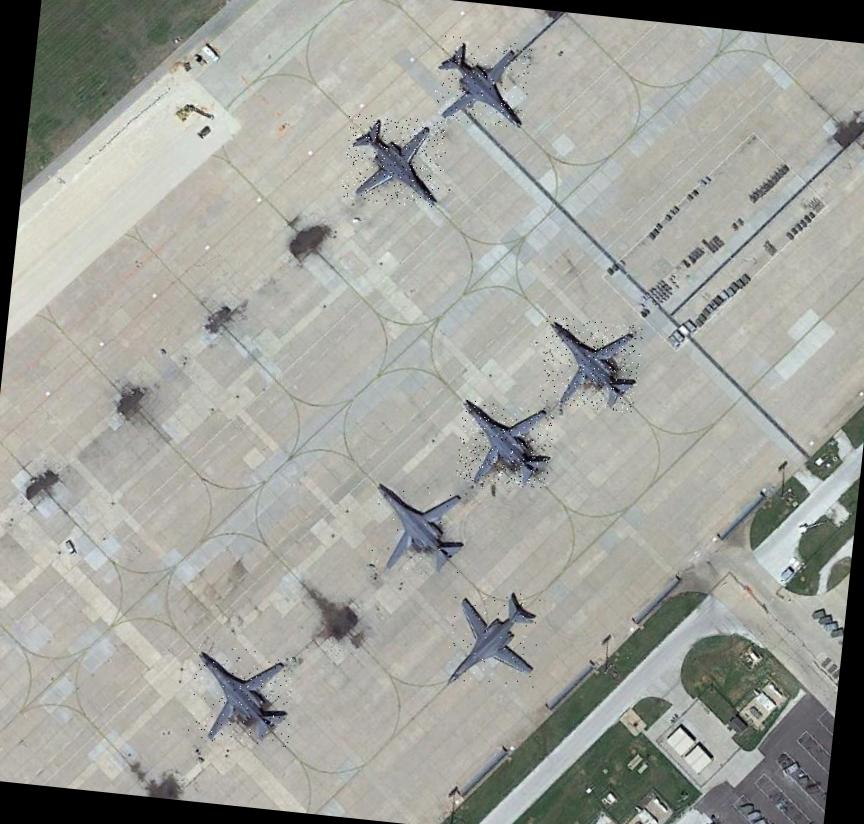A10: (185, 642, 297, 748), (440, 584, 542, 692), (340, 112, 448, 210), (538, 316, 644, 414), (366, 479, 473, 574), (432, 35, 532, 128), (455, 400, 555, 491)
